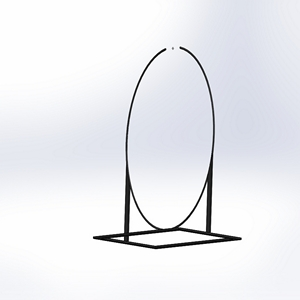circle: (87, 42, 245, 251)
